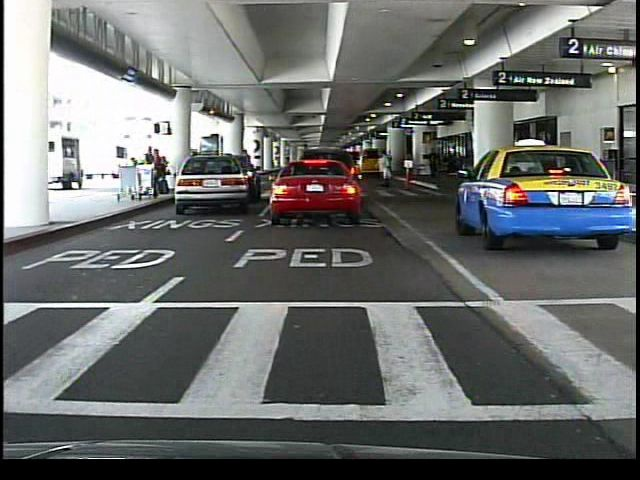person: (237, 145, 258, 202), (277, 154, 295, 207), (298, 150, 313, 203), (148, 146, 163, 197), (378, 150, 393, 189), (426, 149, 441, 184)
